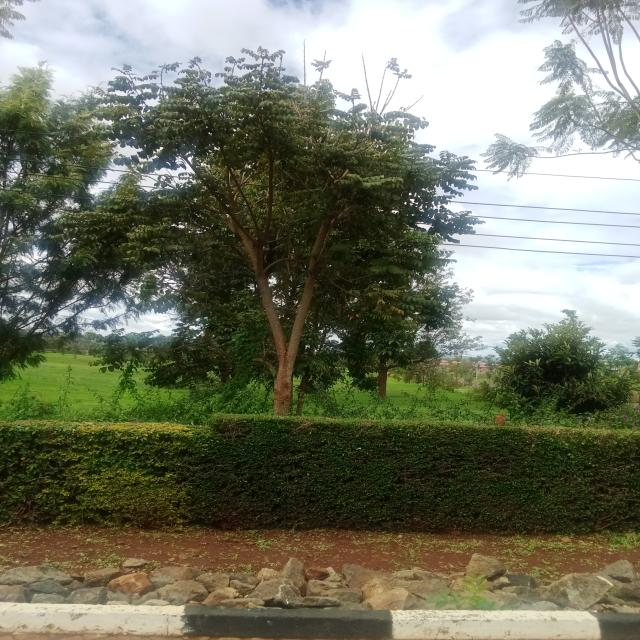Polyscias Kikuyensis: (88, 36, 449, 412)
